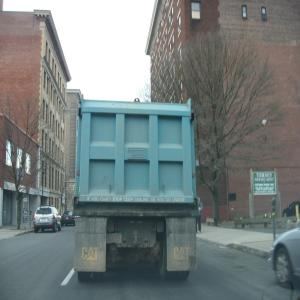Vehicle-registration-plate: (107, 234, 122, 245)
